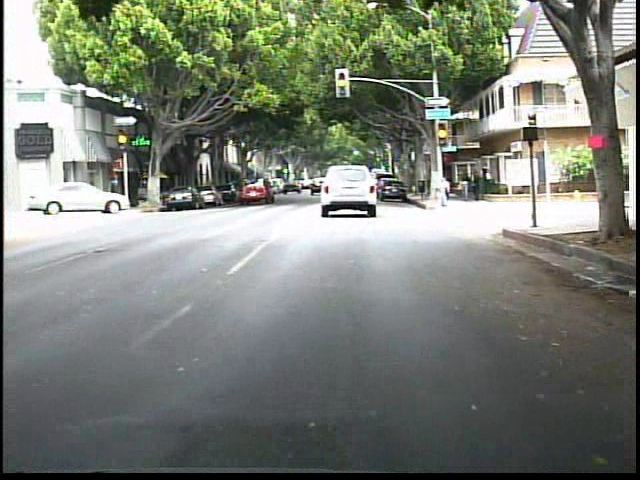person: (434, 172, 455, 210), (458, 168, 474, 203), (470, 167, 484, 204), (480, 161, 493, 196)
